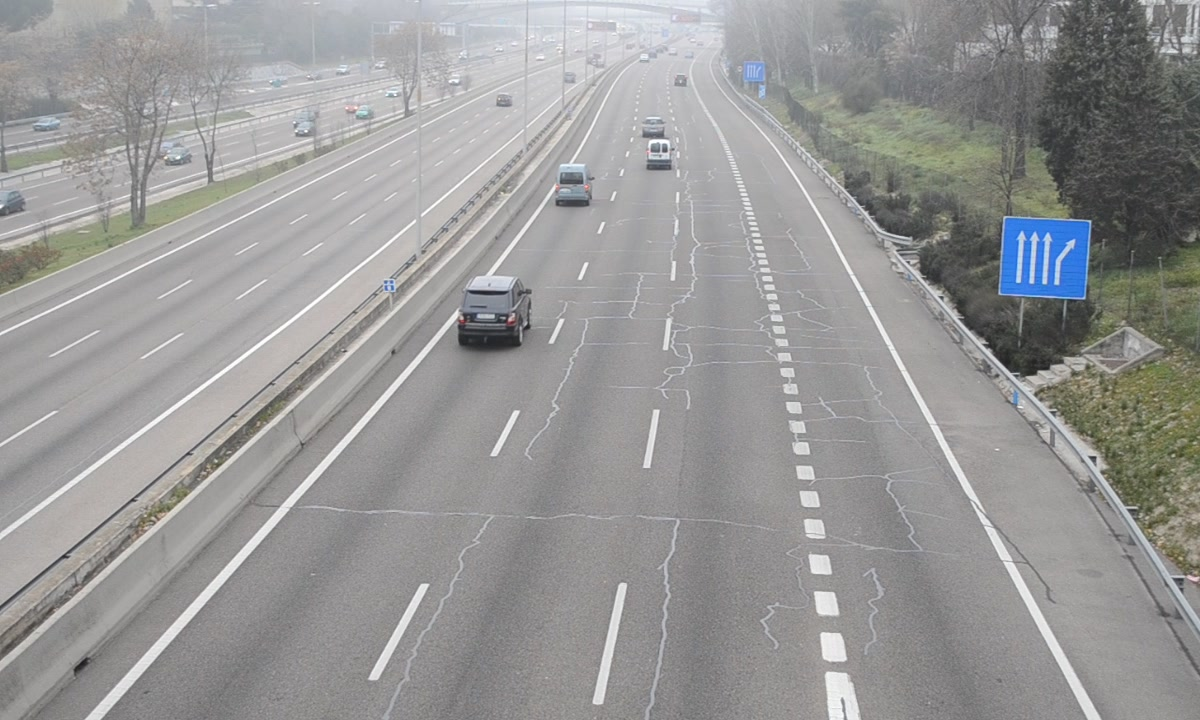car: (456, 276, 528, 342)
van: (554, 163, 591, 205), (645, 137, 673, 172)
